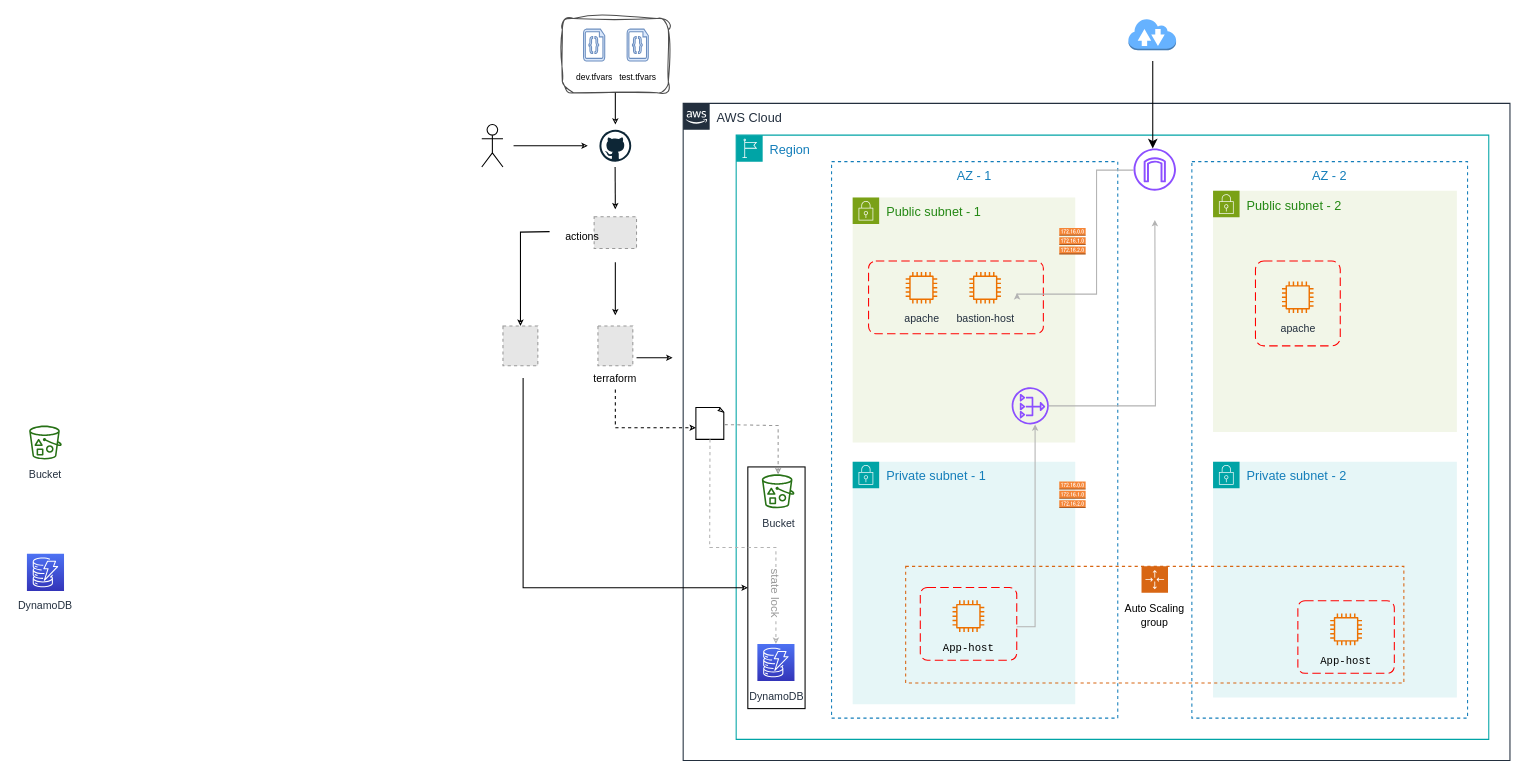
Image size: 1529x779. Some labels were removed from this diagram. Grey dashed boxes stand in for pictures. Each missing label, with the centre of its shape:
"DevOps" goes at point (492, 145).
"IGW" goes at point (1154, 169).
"State File" goes at point (709, 423).
